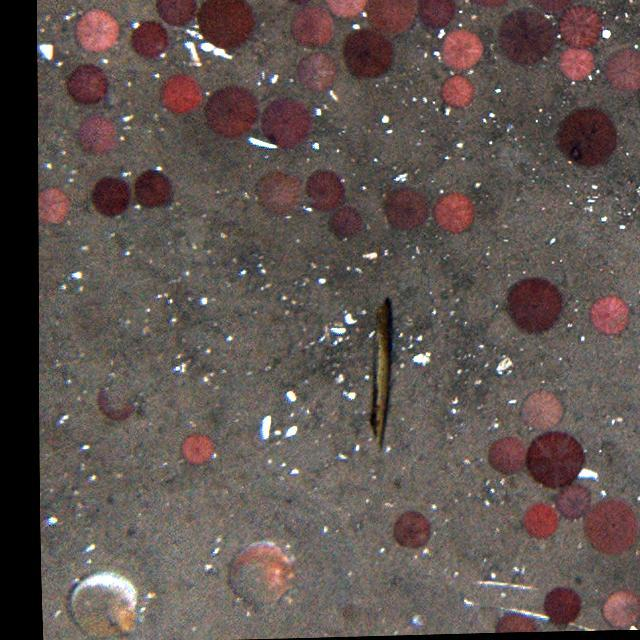scallop: (228, 537, 298, 609)
